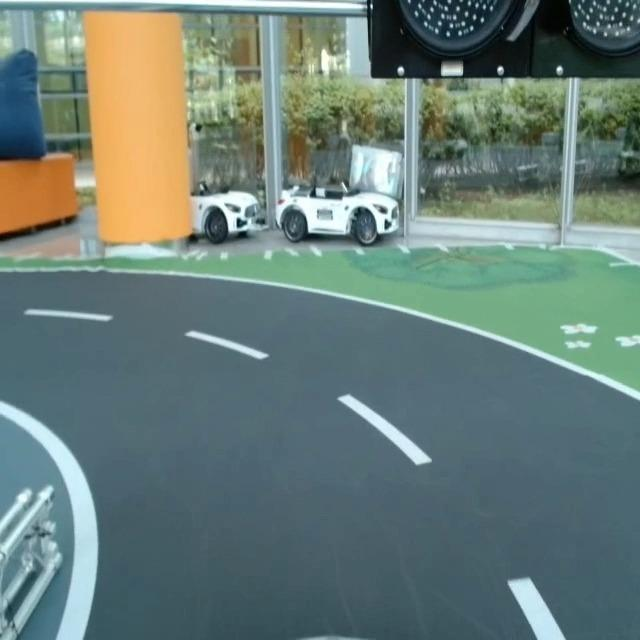traffic-light: (364, 0, 640, 87)
